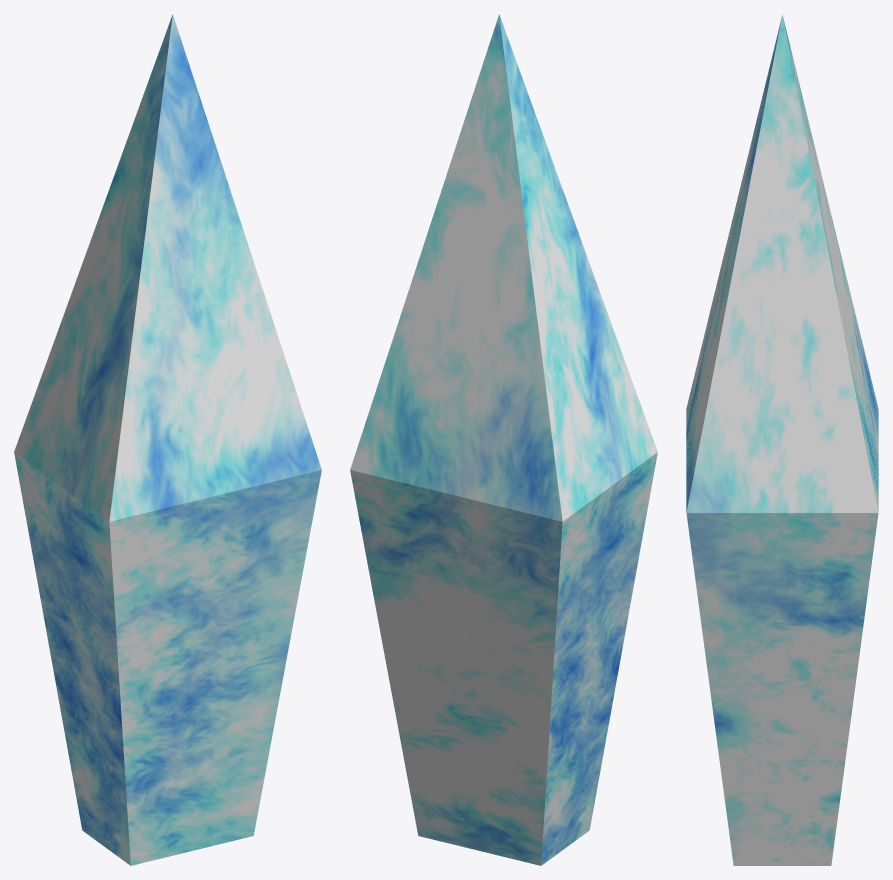
Rendered from Ice.fbx.
3 renders of one model, left to right at view 1: azimuth 30°, elevation 25°; view 2: azimuth 150°, elevation 25°; view 3: azimuth 270°, elevation 25°, orthographic.
Parts seen in each view (by area): view 1: polySurface28; view 2: polySurface28; view 3: polySurface28.
Part boxes in pixels (x1,y1,x2,y2): polySurface28: (14, 14, 321, 865); polySurface28: (350, 14, 657, 865); polySurface28: (686, 14, 878, 865).
Bounding box in the file's own units: 264 × 970 × 205.
